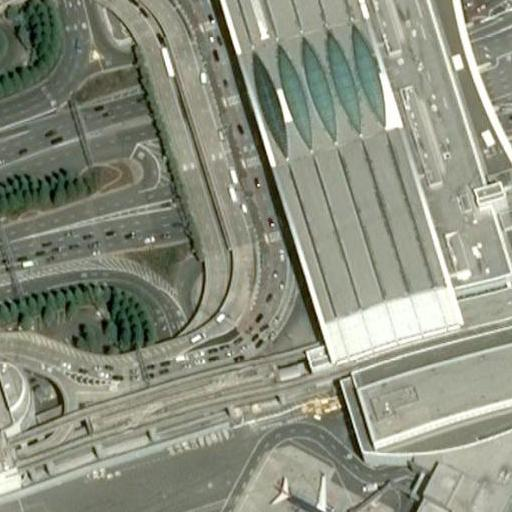Aircraft: (269, 472, 351, 512)
